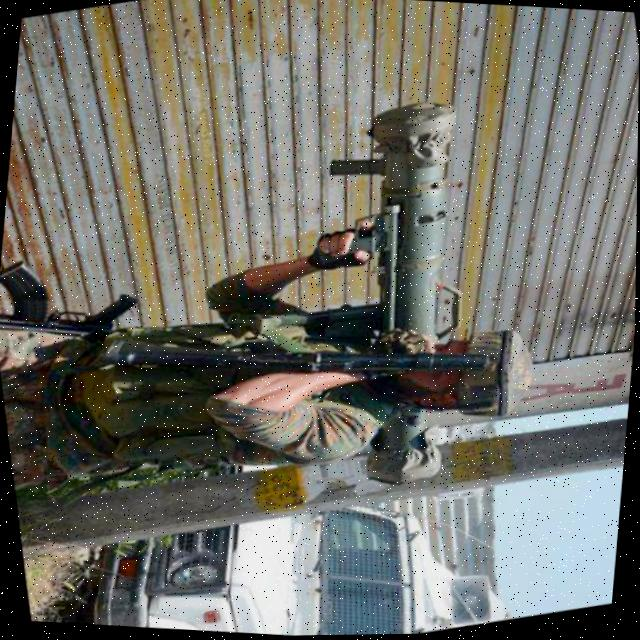rocket: (289, 89, 531, 504)
